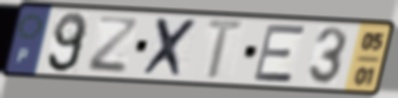3: (307, 25, 350, 88)
9: (45, 10, 90, 75)
E: (251, 24, 307, 84)
T: (203, 17, 249, 83)
X: (139, 16, 202, 81)
Z: (84, 13, 142, 75)
